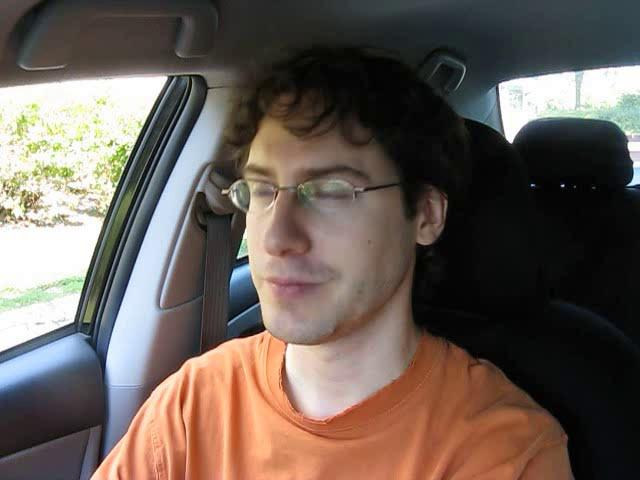close_eyeL: (242, 175, 286, 208)
close_eyeR: (294, 175, 368, 220)
no_yawn: (244, 258, 342, 314)
